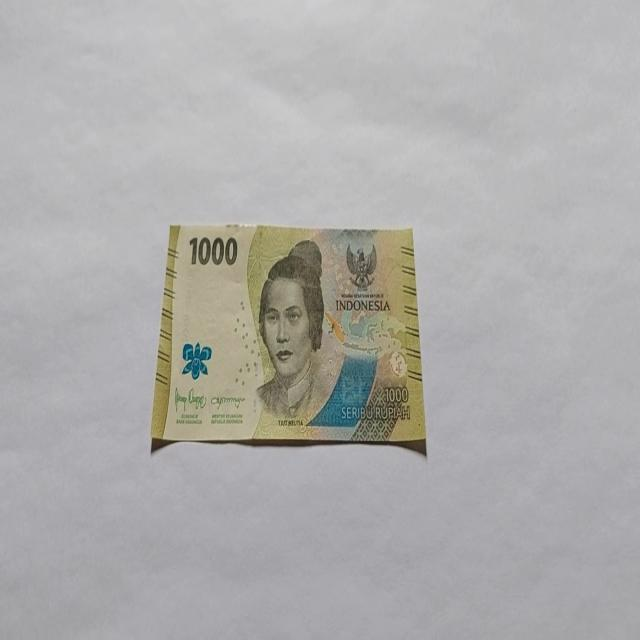seribu rupiah kertas: (150, 222, 426, 454)
